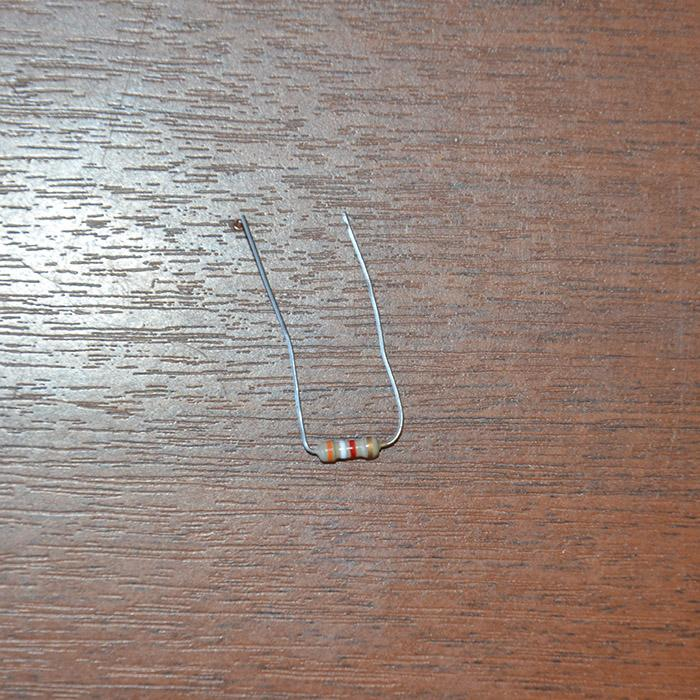resistor: (312, 435, 383, 463)
